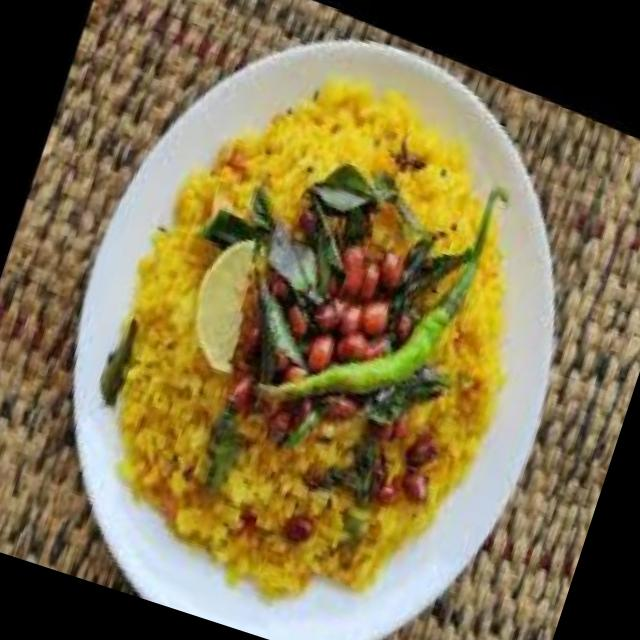poha: (46, 15, 583, 640)
